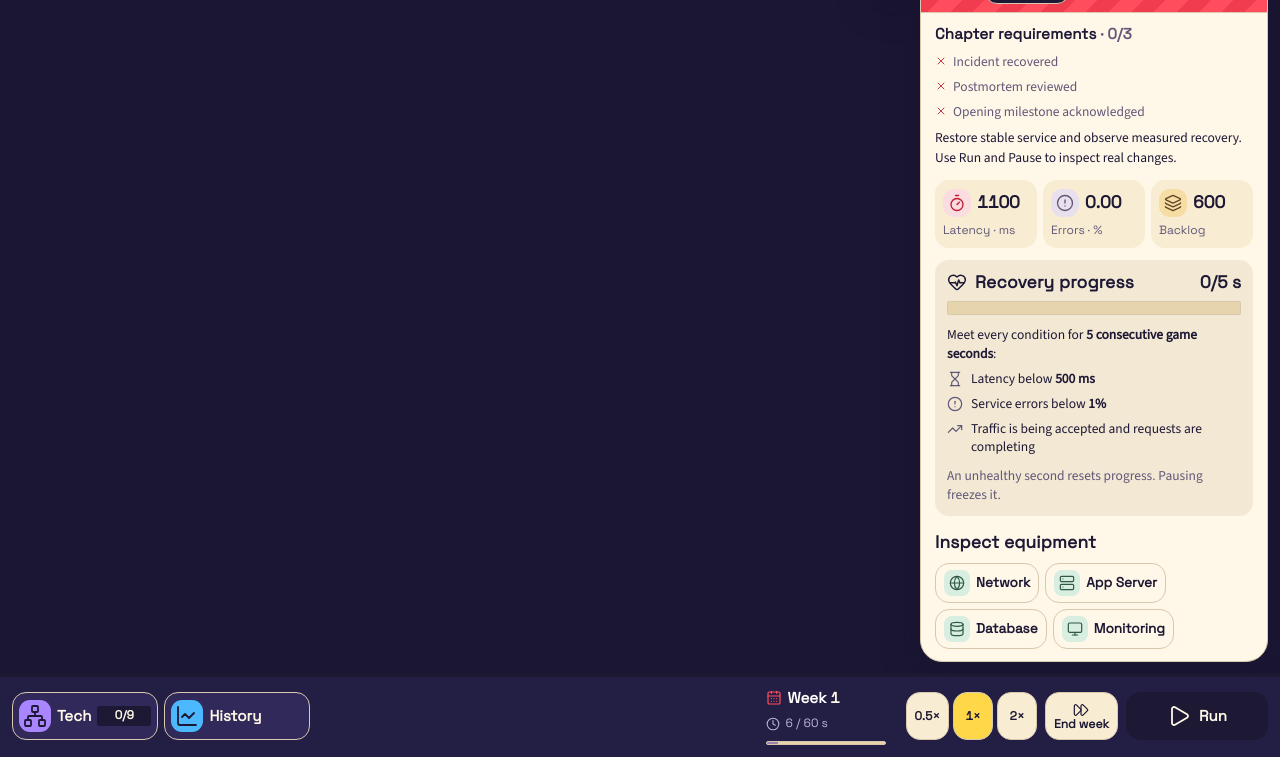
it: shows inspected evidence as labelled rows and a load bar
(page scrolled)
Click the button "Database".
click(991, 629)  # box 935,609 -> 1047,649
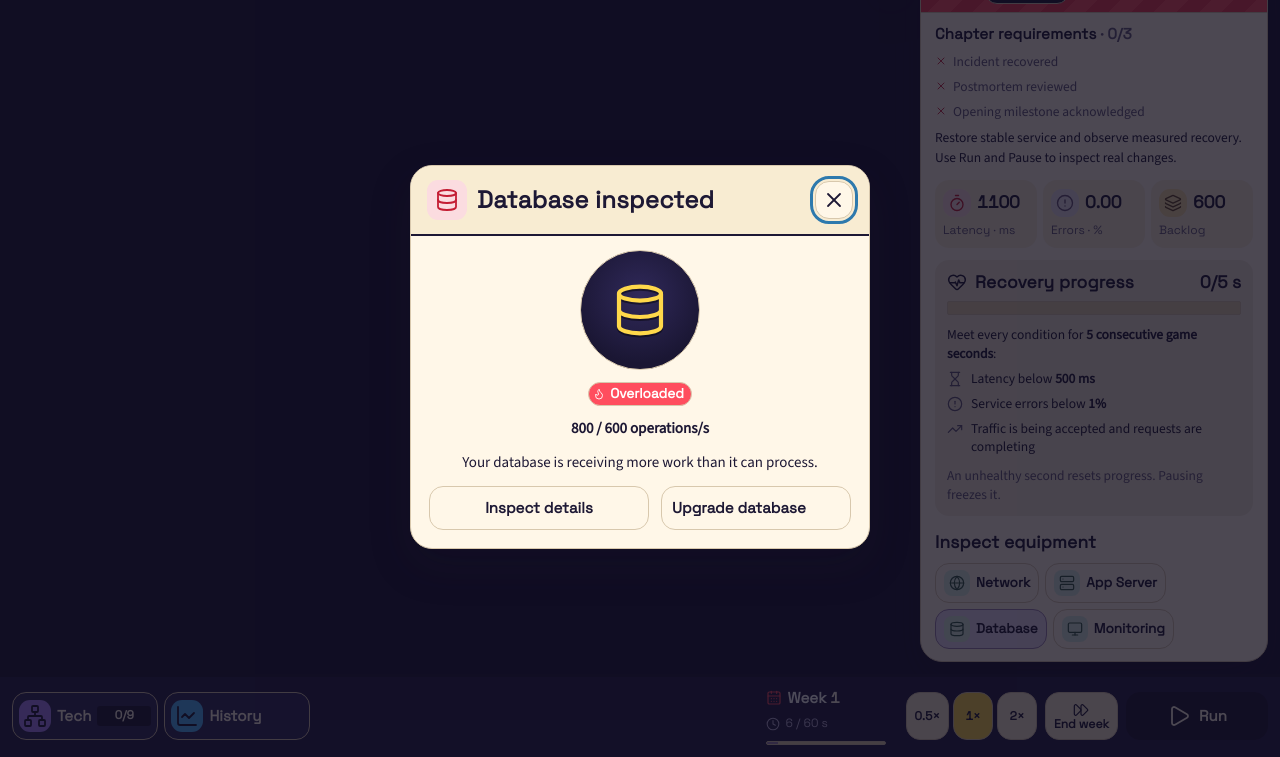
Click the button "Inspect details".
click(539, 508)  # box 429,486 -> 649,530
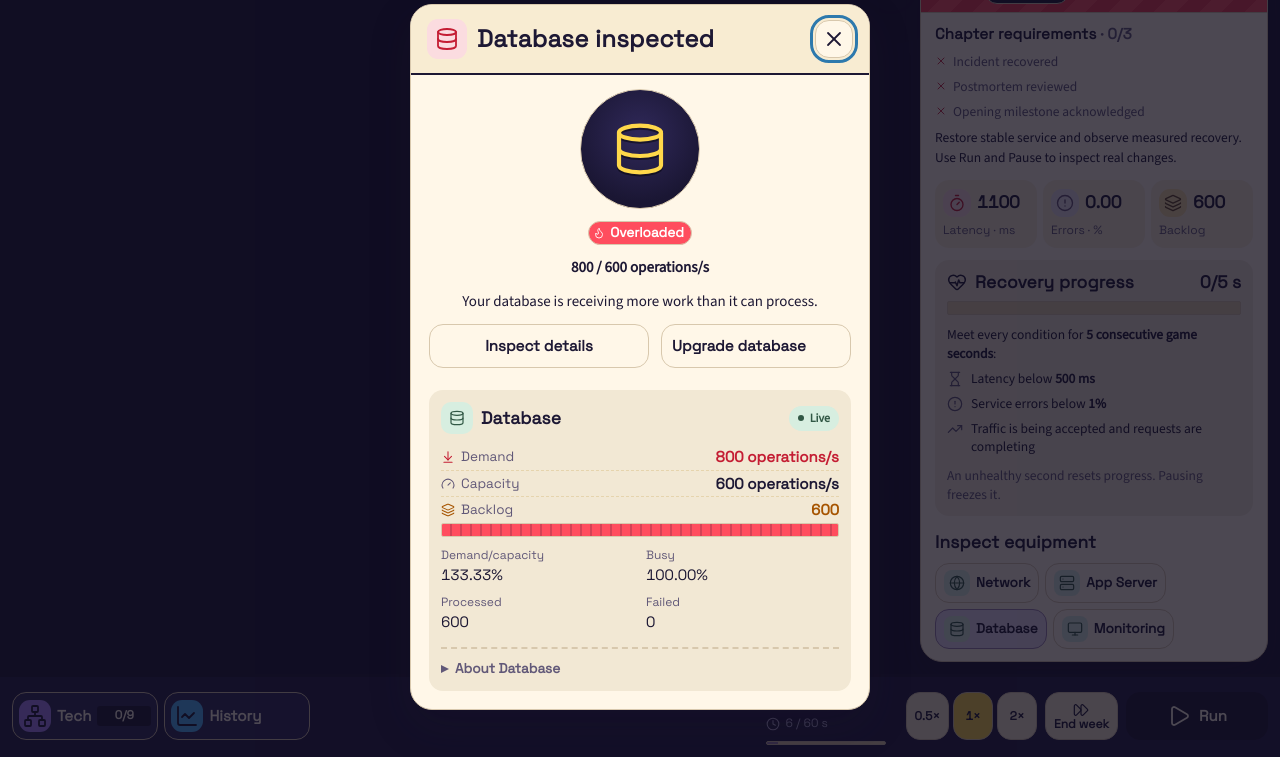
Result: the progress indicator named "Database load: 800 of 600 operations/s" is shown at 441,523 -> 839,537
Click the button named "Close".
click(834, 39)  # box 815,20 -> 853,58
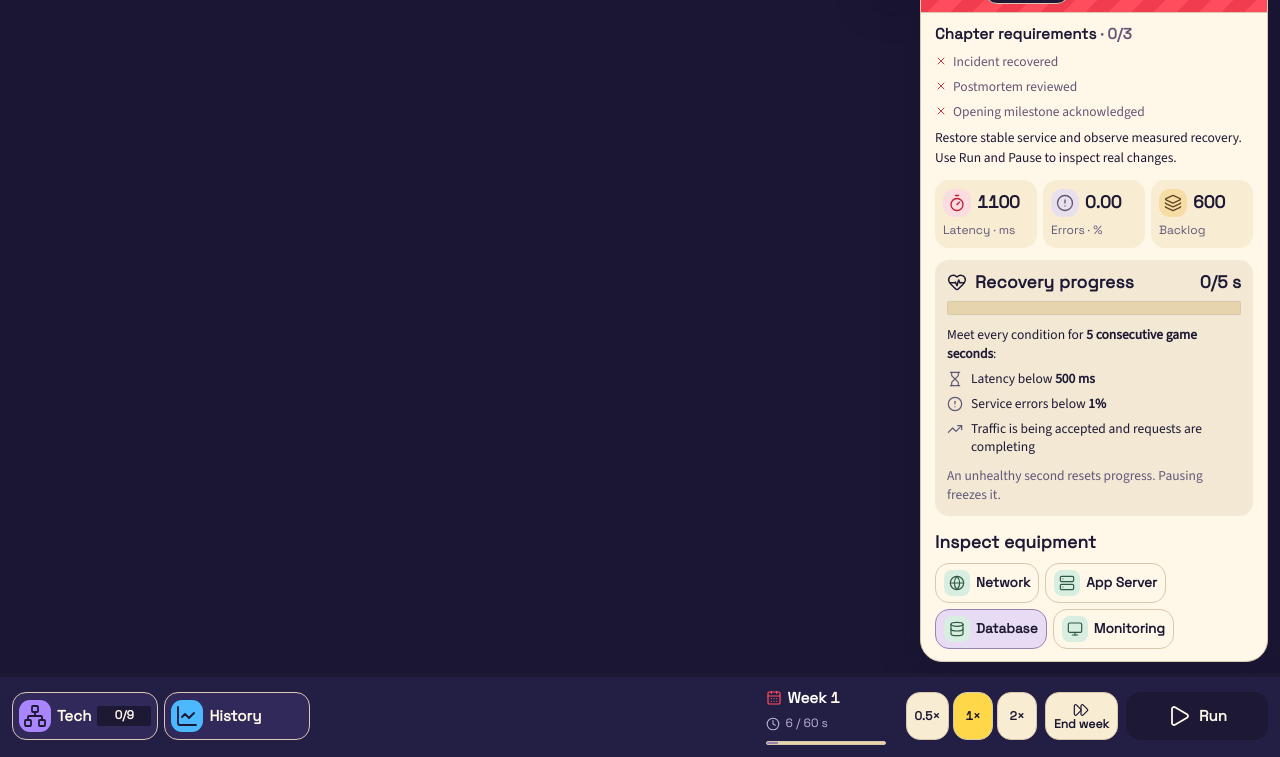
Click the button "Network".
click(987, 583)  # box 935,563 -> 1039,603
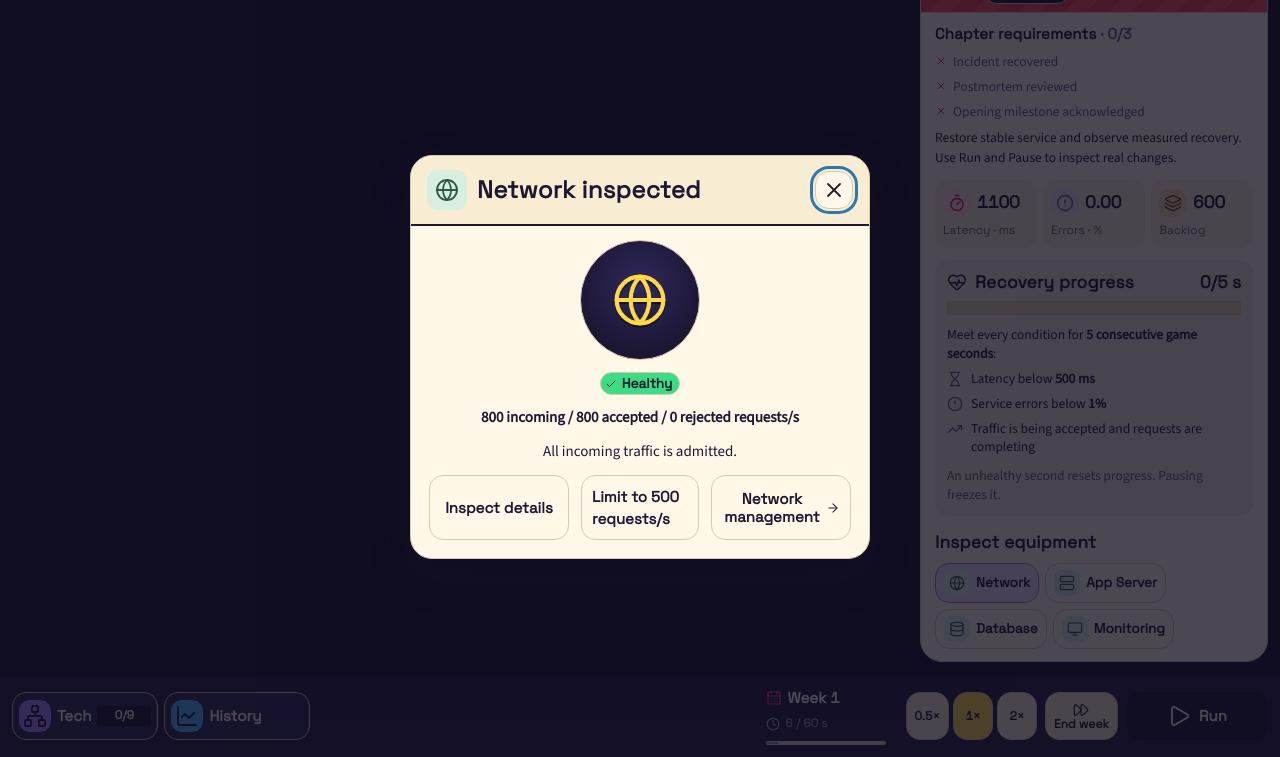
Click the button "Inspect details".
click(499, 508)  # box 429,475 -> 569,540
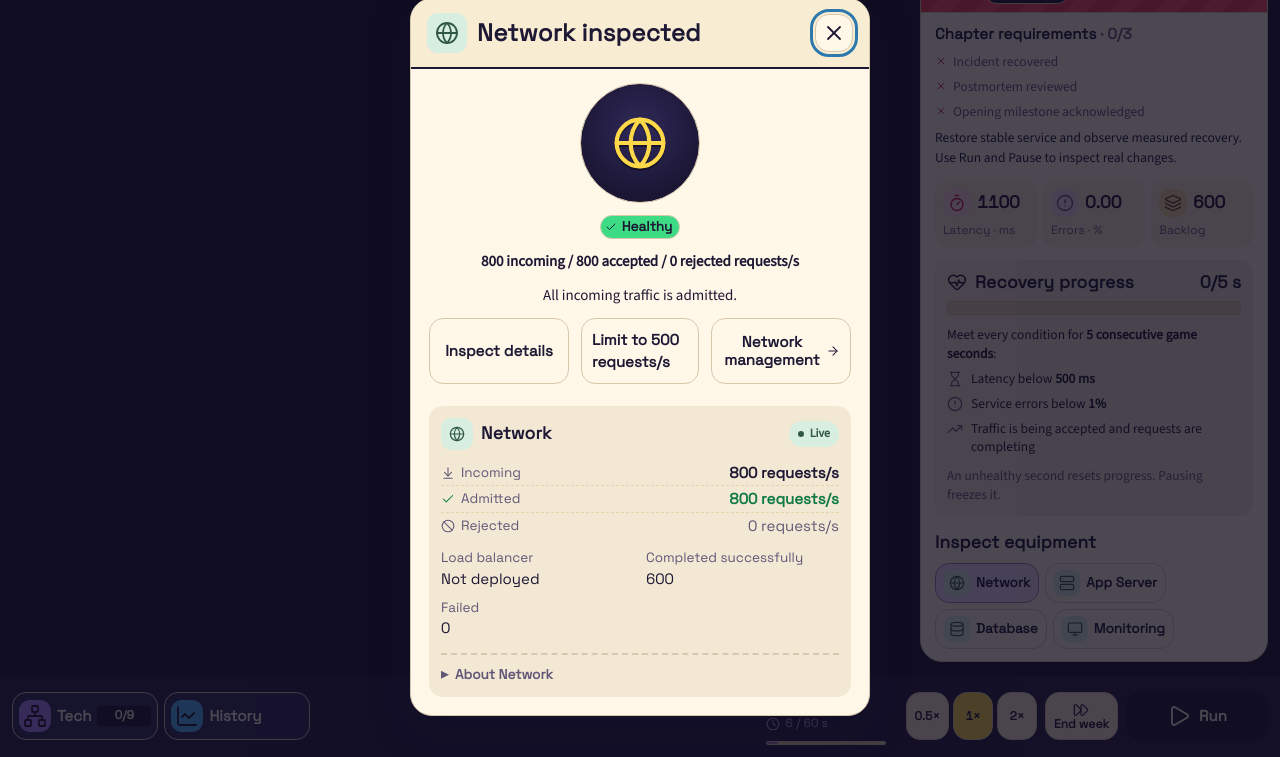
Result: the 1st text "800 requests/s" is shown at 729,463 -> 839,482
Result: the 2nd text "800 requests/s" is shown at 729,489 -> 839,509
Result: the text "0 requests/s" is shown at 748,516 -> 839,535
